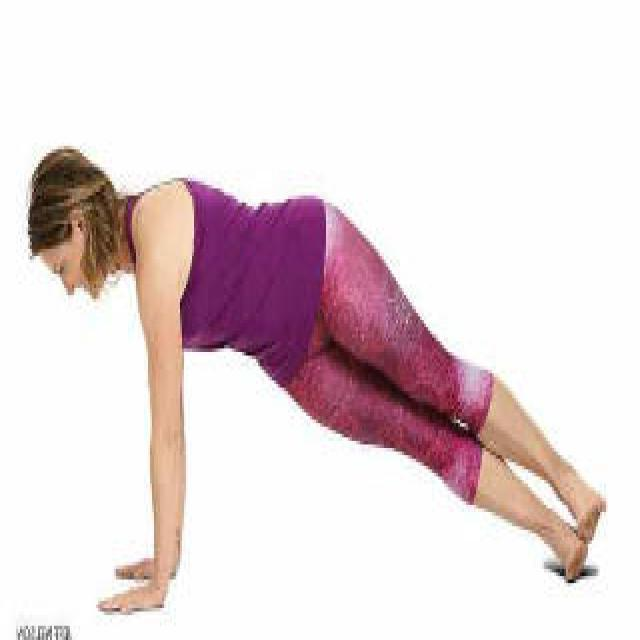yoga-pose plank: (30, 148, 600, 597)
